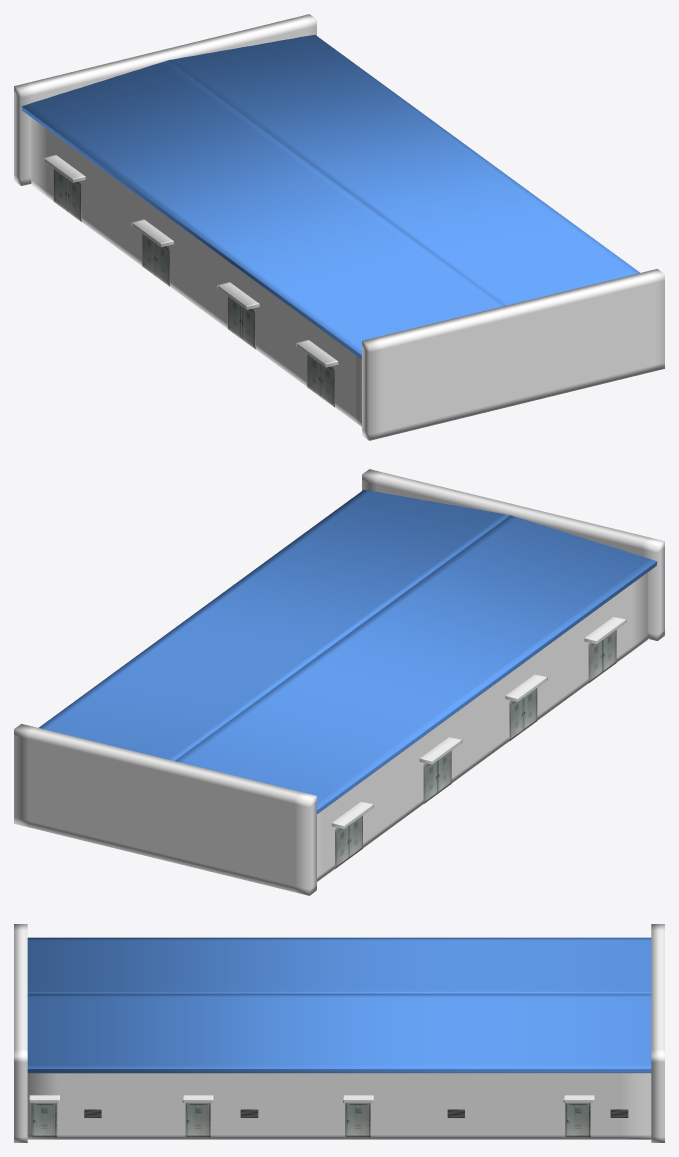
Rendered from cwb_2f_mini.gltf.
The picture shows the model from 3 angles, top to bottom: view 1: azimuth 30°, elevation 25°; view 2: azimuth 150°, elevation 25°; view 3: azimuth 270°, elevation 25°; orthographic projection. The views are drawn at different scales.
Parts seen in each view (by area): view 1: cwb_waiguan_9, cwb_waiguan_10, cwb_waiguan_12, cwb_waiguan_29, cwb_waiguan_11; view 2: cwb_waiguan_9, cwb_waiguan_10, cwb_waiguan_11, cwb_waiguan_29, cwb_waiguan_12; view 3: cwb_waiguan_10, cwb_waiguan_29, cwb_waiguan_9, cwb_waiguan_11, cwb_waiguan_12, cwb_waiguan_16, cwb_waiguan_13, cwb_waiguan_14, cwb_waiguan_15, cwb_waiguan_28.
Part boxes in pixels (x1,y1,x2,y2): cwb_waiguan_9: [21, 60, 504, 358]; cwb_waiguan_10: [168, 35, 640, 305]; cwb_waiguan_12: [362, 269, 664, 440]; cwb_waiguan_29: [30, 117, 361, 426]; cwb_waiguan_11: [14, 14, 316, 185]; cwb_waiguan_9: [174, 515, 657, 813]; cwb_waiguan_10: [38, 490, 510, 760]; cwb_waiguan_11: [14, 724, 316, 895]; cwb_waiguan_29: [317, 572, 648, 881]; cwb_waiguan_12: [362, 469, 664, 640]; cwb_waiguan_10: [27, 993, 651, 1072]; cwb_waiguan_29: [27, 1073, 651, 1139]; cwb_waiguan_9: [27, 937, 651, 993]; cwb_waiguan_11: [651, 924, 664, 1142]; cwb_waiguan_12: [14, 924, 27, 1142]; cwb_waiguan_16: [31, 1103, 57, 1137]; cwb_waiguan_13: [565, 1103, 590, 1137]; cwb_waiguan_14: [345, 1103, 370, 1137]; cwb_waiguan_15: [185, 1103, 210, 1137]; cwb_waiguan_28: [28, 1073, 650, 1073].
Bounding box in the file's own units: 103 × 31.46 × 211.
7 materials, 3 textured.
